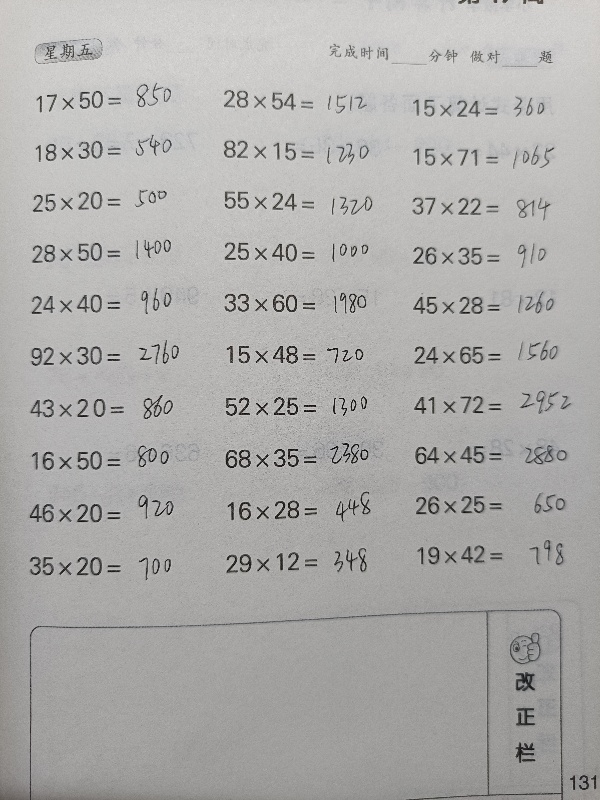equation: (216, 436, 396, 474), (214, 134, 394, 170), (21, 549, 201, 584), (217, 544, 397, 579), (219, 492, 399, 527), (23, 443, 203, 478), (21, 390, 201, 425), (216, 388, 396, 423), (22, 338, 202, 373), (23, 286, 203, 321), (408, 538, 588, 572), (21, 496, 201, 530), (407, 488, 587, 522), (219, 338, 399, 372), (216, 286, 396, 320), (404, 239, 584, 273), (215, 235, 395, 269), (23, 235, 203, 269), (24, 184, 204, 218), (26, 133, 206, 167), (29, 83, 209, 117), (215, 83, 395, 117), (405, 438, 585, 471), (405, 388, 585, 421), (406, 339, 586, 372), (405, 288, 585, 321), (404, 190, 584, 223), (215, 184, 395, 217), (406, 141, 586, 174), (404, 92, 584, 125)
